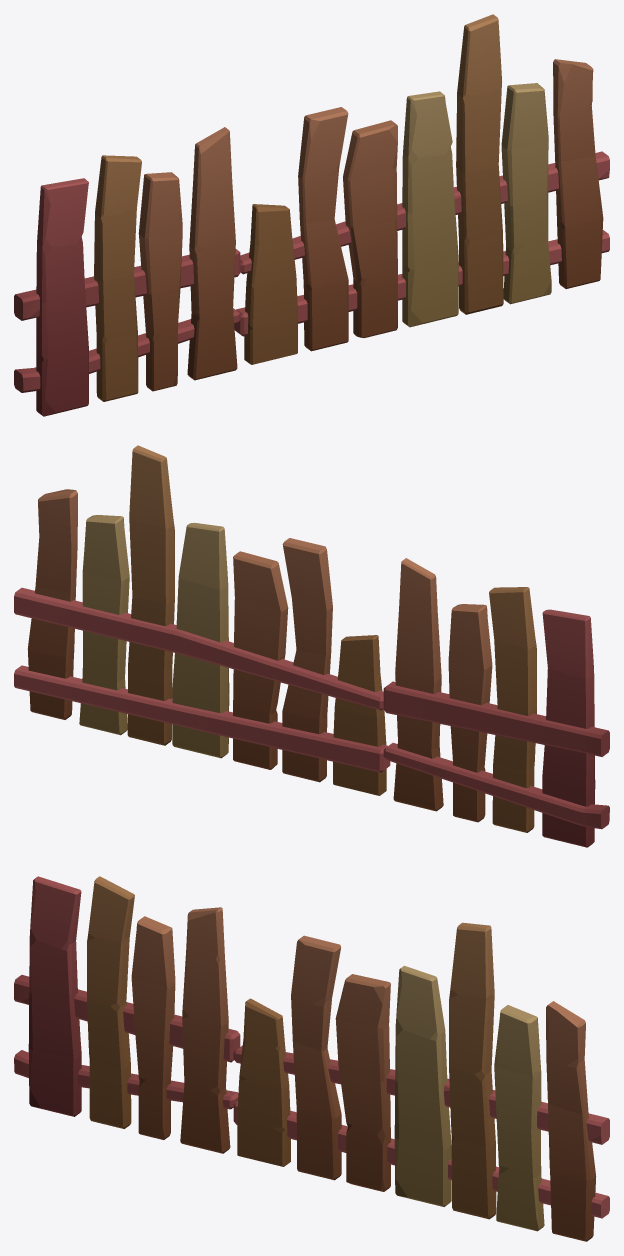
The model's file is pagar4.fbx.
3 renders of one model, top to bottom at view 1: azimuth 30°, elevation 25°; view 2: azimuth 150°, elevation 25°; view 3: azimuth 330°, elevation 25°, orthographic.
Visible parts, largest first — view 1: Pagar fix.004; view 2: Pagar fix.004; view 3: Pagar fix.004.
Boxes of the visible parts, <box> form: Pagar fix.004: <box>14,14,609,416</box>; Pagar fix.004: <box>14,445,609,847</box>; Pagar fix.004: <box>14,876,609,1241</box>.
Bounding box in the file's own units: 398 × 188 × 15.26.
1 material, 1 textured.
